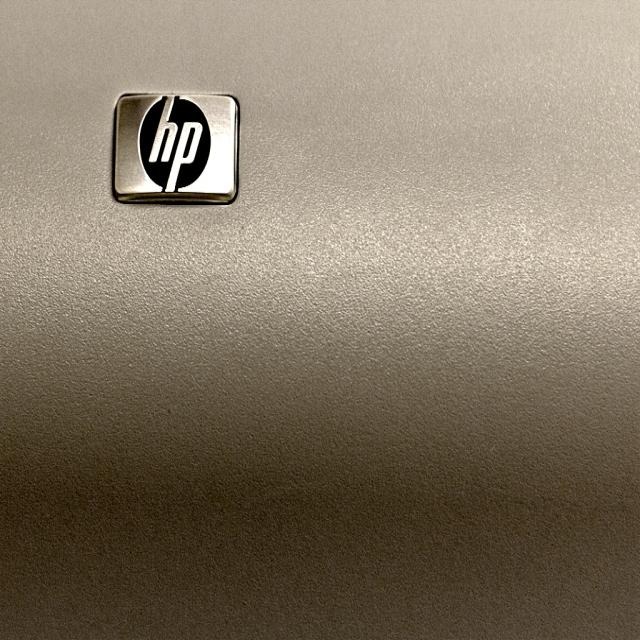HP: (114, 94, 237, 199)
